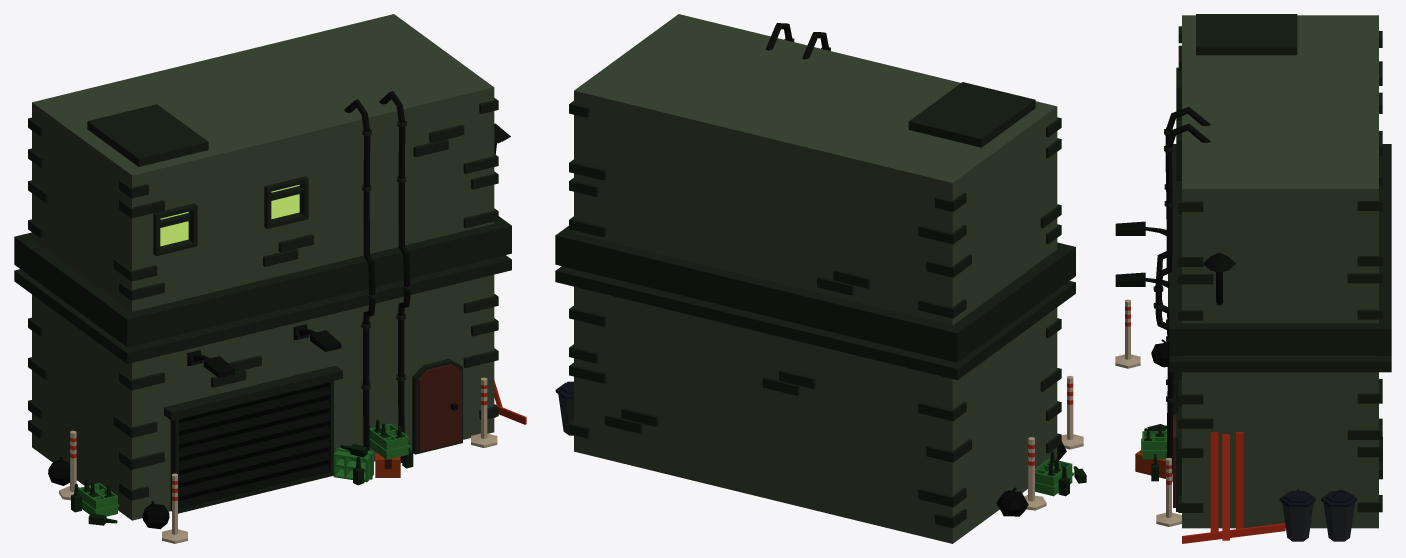
The model's file is house_3.fbx.
3 renders of one model, left to right at view 1: azimuth 30°, elevation 25°; view 2: azimuth 150°, elevation 25°; view 3: azimuth 270°, elevation 25°, orthographic. The views are drawn at different scales.
Visible parts, largest first — view 1: house_4; view 2: house_4; view 3: house_4.
Part boxes in pixels (left/top/right/bottom): house_4: left=14, top=14, right=526, bottom=543; house_4: left=555, top=14, right=1086, bottom=543; house_4: left=1115, top=14, right=1391, bottom=543.
Bounding box in the file's own units: 1070 × 872 × 605.
